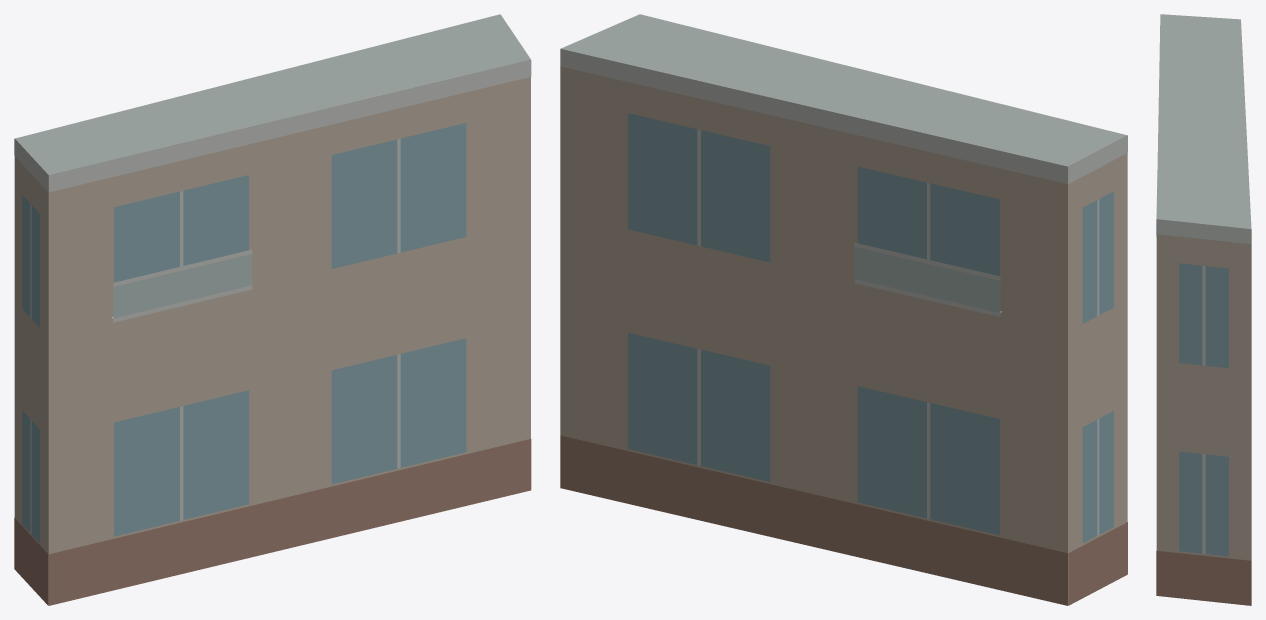
The model's file is survey-upis-32528113.glb.
The picture shows the model from 3 angles, left to right: view 1: azimuth 30°, elevation 25°; view 2: azimuth 150°, elevation 25°; view 3: azimuth 270°, elevation 25°; orthographic projection. The views are drawn at different scales.
Visible parts, largest first — view 1: survey-upis-32528113.tmp; view 2: survey-upis-32528113.tmp; view 3: survey-upis-32528113.tmp.
Part boxes in pixels (x1=…): survey-upis-32528113.tmp: x1=14, y1=14, x2=531, y2=605; survey-upis-32528113.tmp: x1=560, y1=14, x2=1127, y2=605; survey-upis-32528113.tmp: x1=1156, y1=14, x2=1251, y2=605.
Size of the model in its own units: 7.48 by 6.1 by 1.41.
